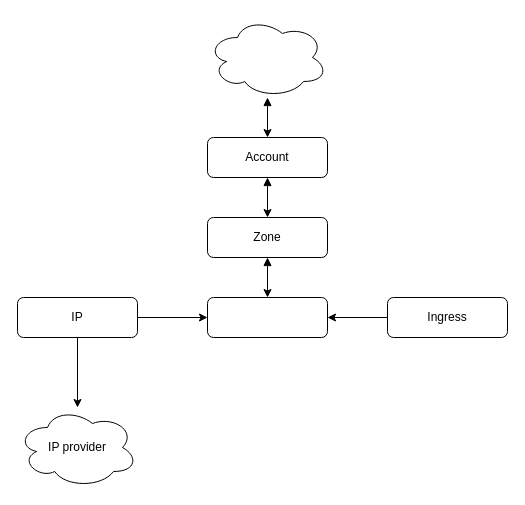
Some shapes in this 525 by 505 pixel diagram are drawn without their labels. Each missing label, with the centre of its shape:
"Cloudflare" belongs at (x=267, y=57).
"DNSRecord" belongs at (x=267, y=317).
